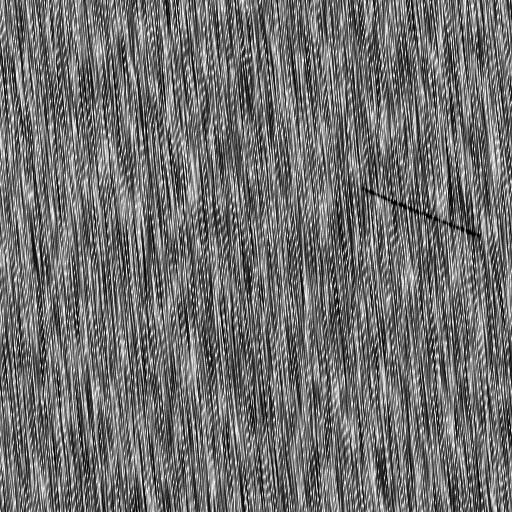DefectTypeC: (359, 184, 488, 240)
